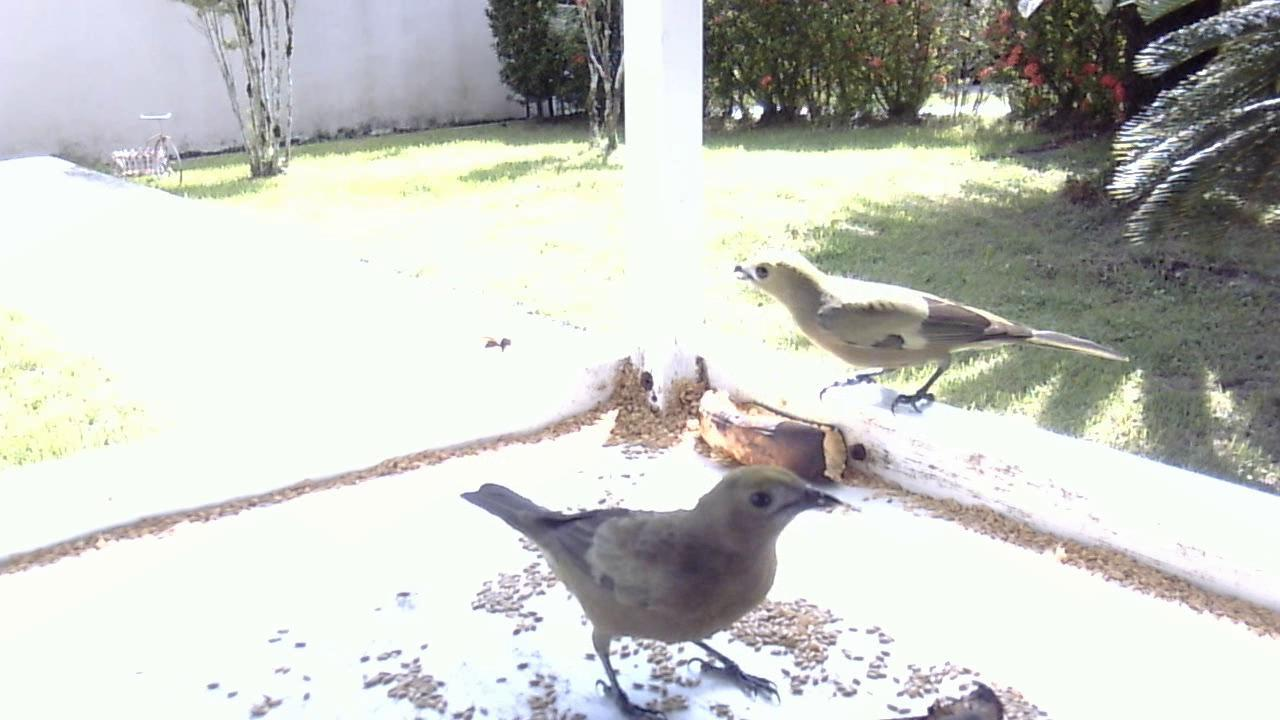sanhaco_do_coqueiro: (450, 430, 859, 720), (733, 234, 1120, 430)
